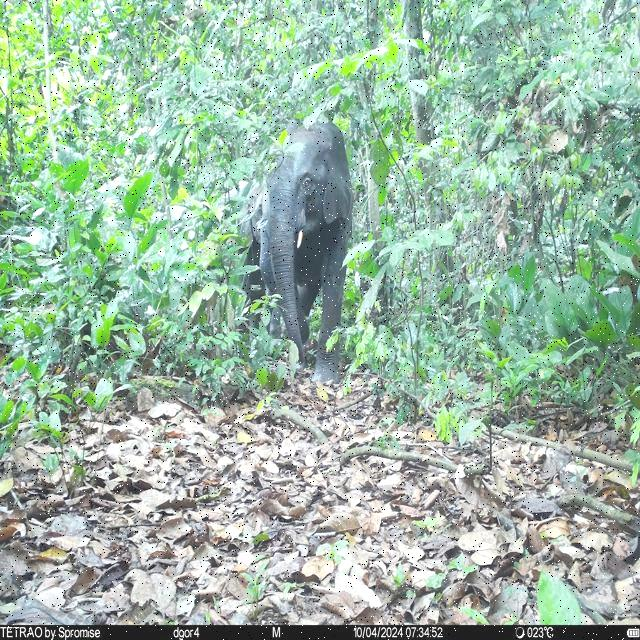ear: (310, 120, 349, 224)
elephant: (240, 120, 354, 386)
tusk: (294, 228, 304, 248)
